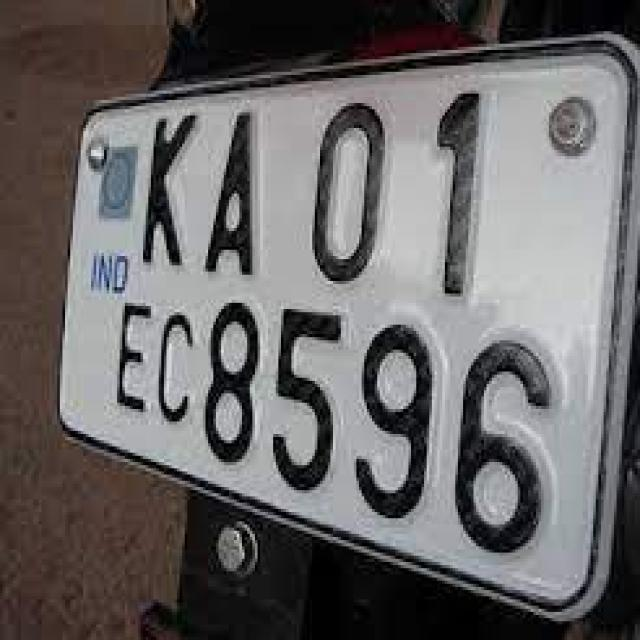number plate: (55, 28, 638, 621)
